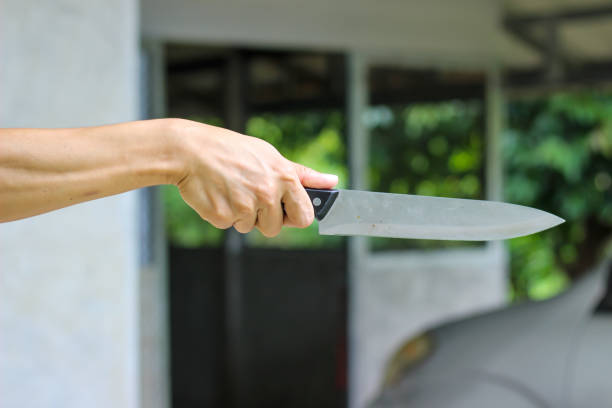knife: (302, 185, 568, 243)
